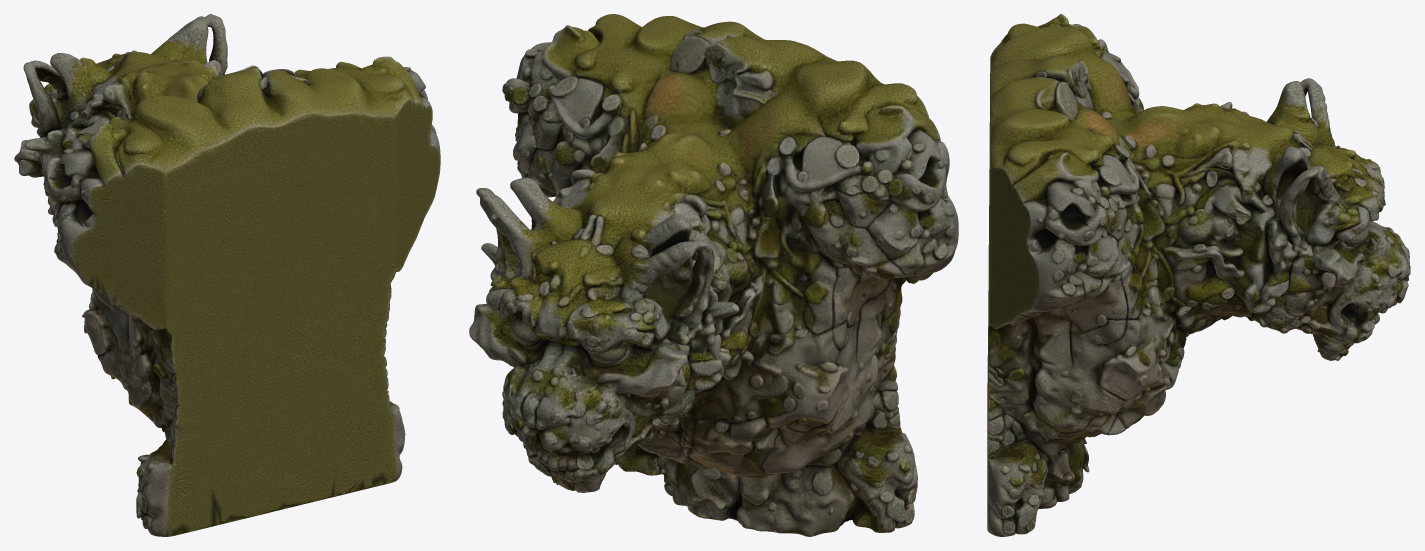
File: gargoyle-statue-mid.glb
3 views of the same model, side by side, from view 1: azimuth 30°, elevation 25°; view 2: azimuth 150°, elevation 25°; view 3: azimuth 270°, elevation 25° (orthographic). The views are drawn at different scales.
Visible parts, largest first — view 1: tripo_node_1b29d1b9-3b0a-41dc-b329-40d5306a0ce2; view 2: tripo_node_1b29d1b9-3b0a-41dc-b329-40d5306a0ce2; view 3: tripo_node_1b29d1b9-3b0a-41dc-b329-40d5306a0ce2.
Boxes of the visible parts, x1,y1,x2,y2 form: tripo_node_1b29d1b9-3b0a-41dc-b329-40d5306a0ce2: [14, 14, 440, 536]; tripo_node_1b29d1b9-3b0a-41dc-b329-40d5306a0ce2: [469, 14, 958, 536]; tripo_node_1b29d1b9-3b0a-41dc-b329-40d5306a0ce2: [987, 14, 1410, 536].
Bounding box in the file's own units: 0.9428 × 0.9821 × 0.9112.
1 material, 1 textured.
